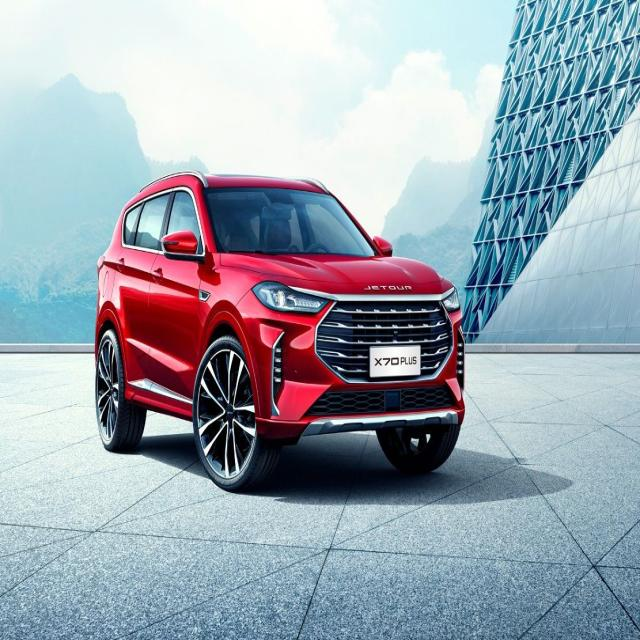SUV: (92, 166, 466, 488)
